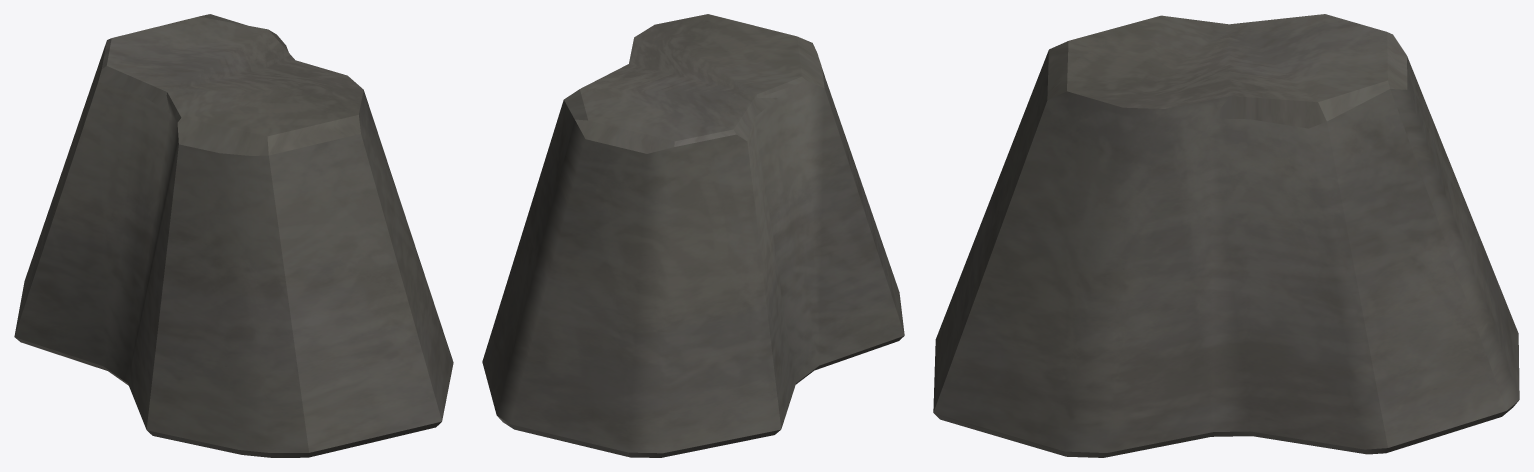
Rendered from ZachMesaRock13.fbx.
3 views of the same model, side by side, from view 1: azimuth 30°, elevation 25°; view 2: azimuth 150°, elevation 25°; view 3: azimuth 270°, elevation 25° (orthographic). The views are drawn at different scales.
Parts seen in each view (by area): view 1: ZachMesaRock13; view 2: ZachMesaRock13; view 3: ZachMesaRock13.
Part boxes in pixels (x1,y1,x2,y2): ZachMesaRock13: (14,14,453,457); ZachMesaRock13: (482,14,904,457); ZachMesaRock13: (933,14,1519,457).
Size of the model in its own units: 2.31 by 2 by 3.36.
